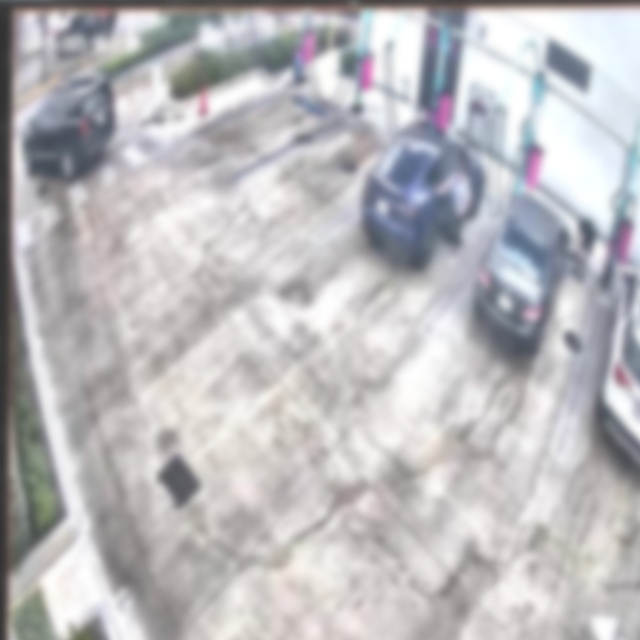Car: (358, 119, 489, 265), (474, 192, 571, 354)
